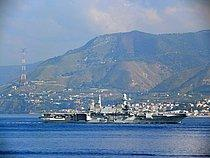MIL_Ship: (39, 89, 190, 127)
